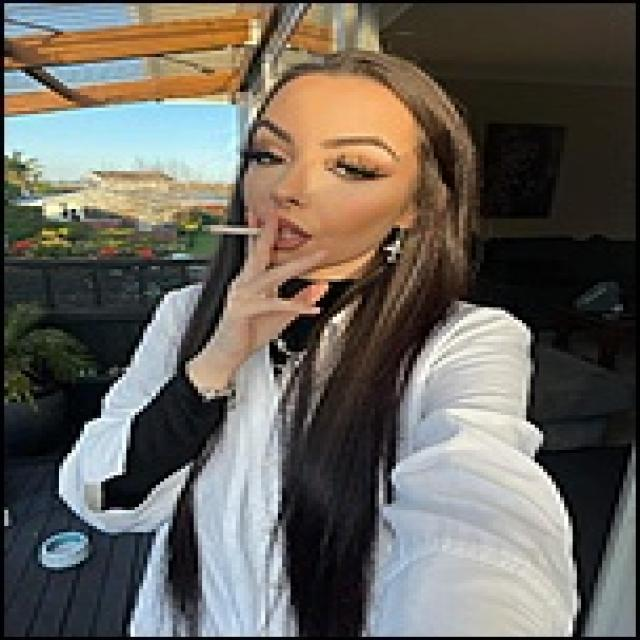rokok: (200, 220, 278, 244)
